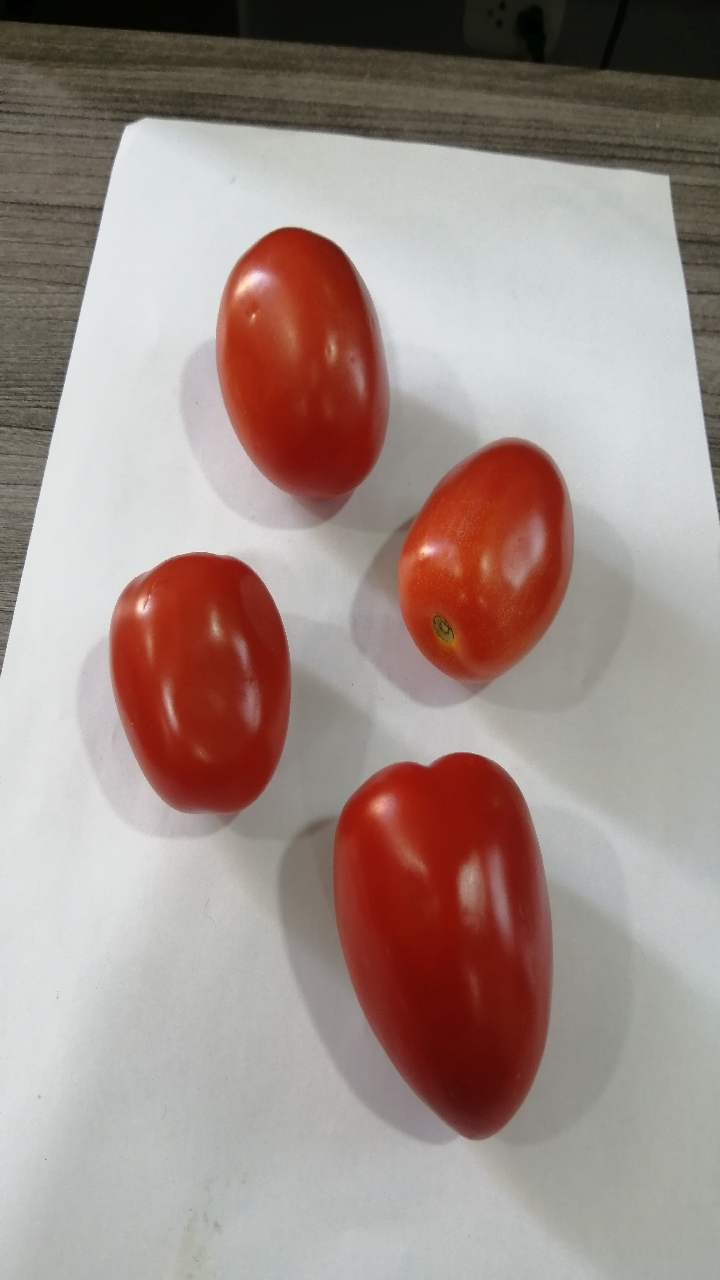tomateRojo: (308, 737, 566, 1163), (189, 214, 408, 515), (88, 532, 298, 837), (384, 414, 586, 694)
